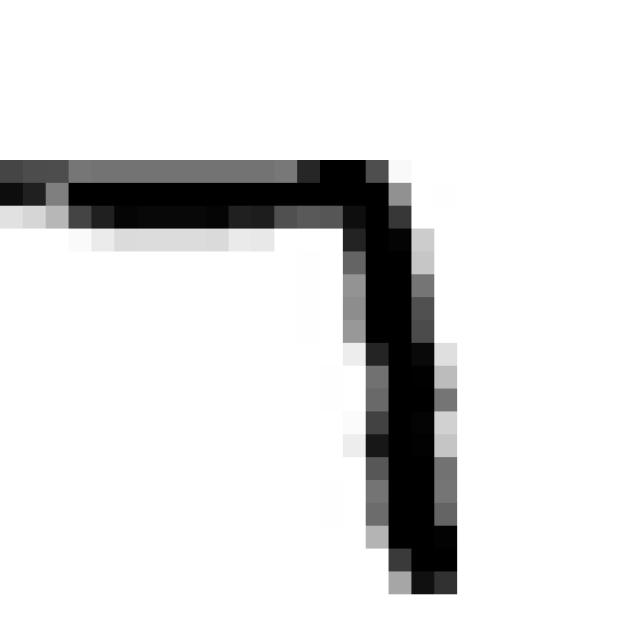6 -six-: (0, 132, 481, 627)
